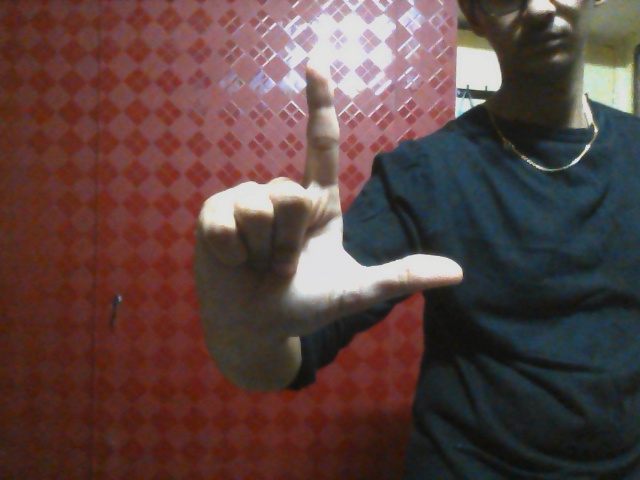L: (190, 57, 467, 326)
